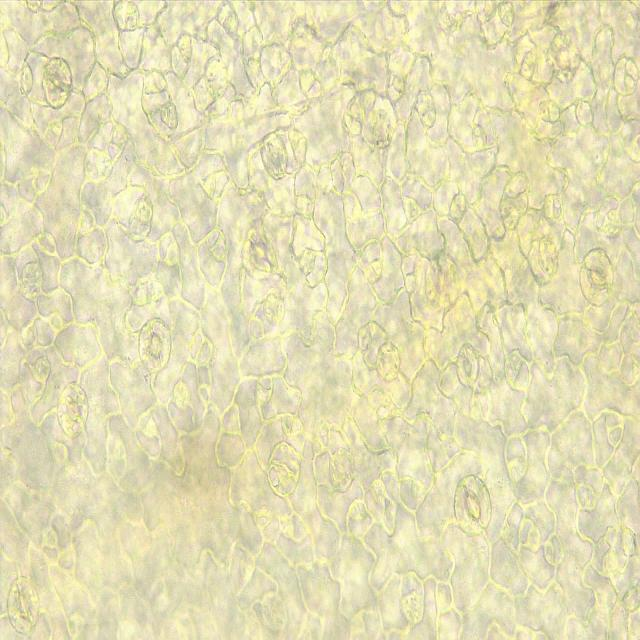Stomata: (452, 474, 492, 536), (579, 247, 615, 307), (137, 317, 173, 371), (56, 381, 90, 438), (267, 440, 301, 497), (7, 576, 40, 634), (242, 227, 278, 280), (426, 252, 458, 311), (42, 55, 73, 110), (260, 131, 289, 181), (456, 343, 479, 389)
